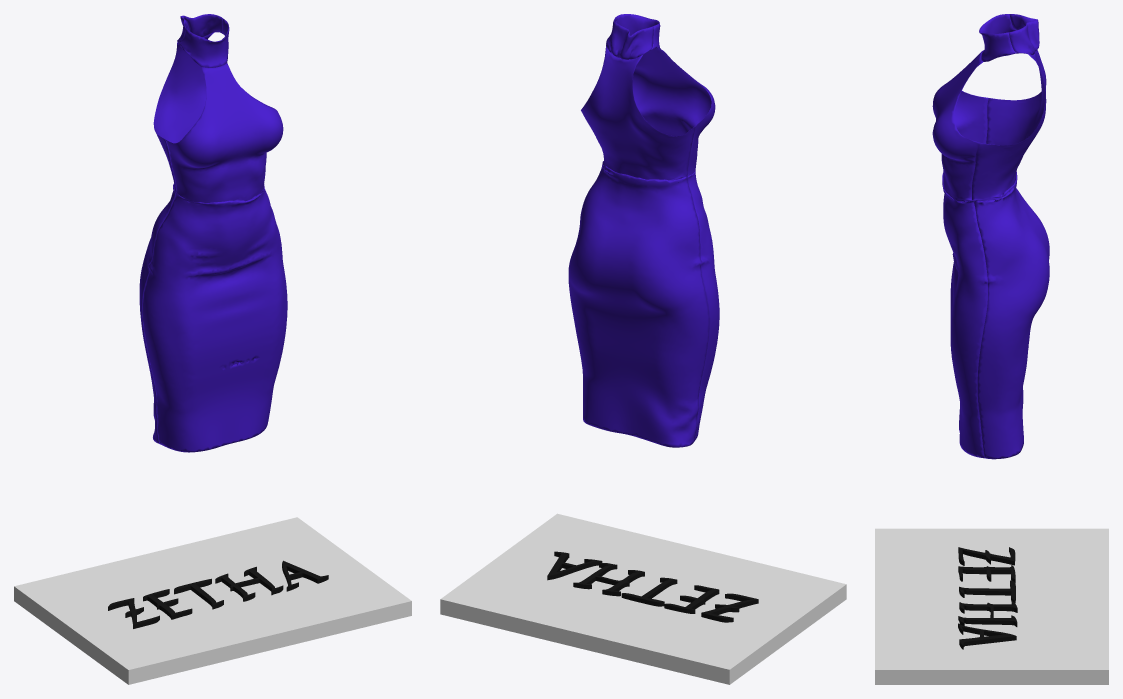
Rendered from dress4.glb.
3 views of the same model, side by side, from view 1: azimuth 30°, elevation 25°; view 2: azimuth 150°, elevation 25°; view 3: azimuth 270°, elevation 25° (orthographic). The views are drawn at different scales.
Parts seen in each view (by area): view 1: defaultobject, Cube.001, Curve, Curve.001, Curve.003; view 2: defaultobject, Cube.001, Curve, Curve.004, Curve.003, Curve.001; view 3: Cube.001, defaultobject, Curve, Curve.003, Curve.004, Curve.001, Curve.002.
Boxes of the visible parts, x1,y1,x2,y2 form: defaultobject: (139,14,287,452); Cube.001: (14,517,411,684); Curve: (215,566,283,601); Curve.001: (143,589,192,619); Curve.003: (282,560,328,591); defaultobject: (568,14,719,447); Cube.001: (440,513,846,684); Curve: (573,563,644,596); Curve.004: (701,593,758,622); Curve.003: (547,551,602,580); Curve.001: (664,585,719,613); Cube.001: (875,528,1108,684); defaultobject: (932,14,1049,459); Curve: (958,601,1017,626); Curve.003: (958,623,1016,649); Curve.004: (958,547,1015,565); Curve.001: (958,565,1015,582); Curve.002: (959,580,1015,603).
Bounding box in the file's own units: 0.2 × 0.3915 × 0.14.
